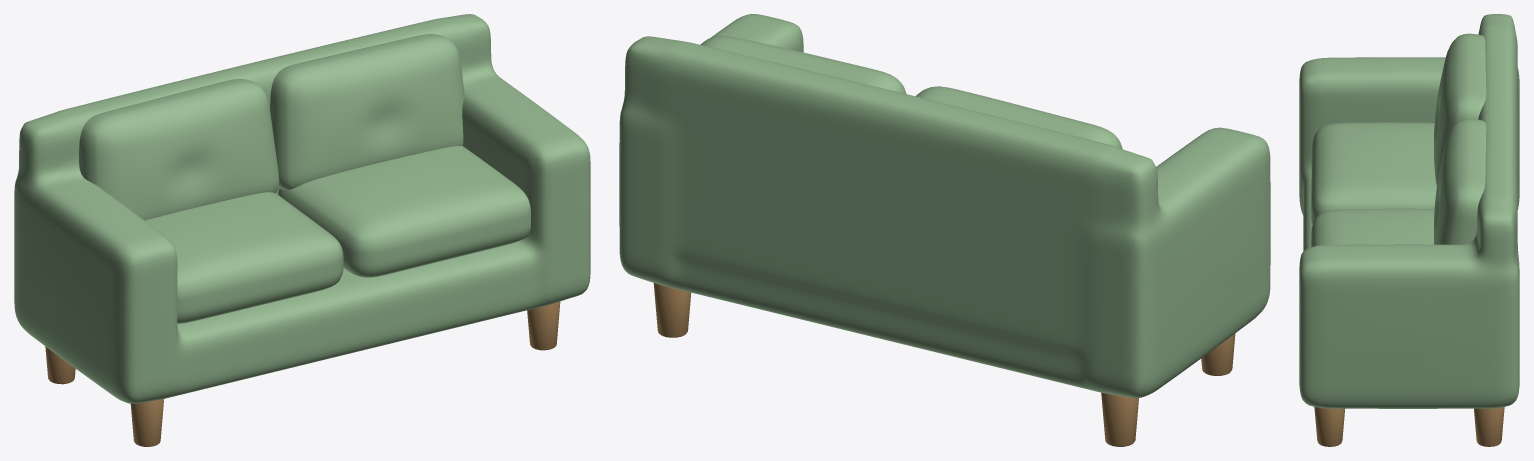
Rendered from quiet-home-sofa.glb.
3 views of the same model, side by side, from view 1: azimuth 30°, elevation 25°; view 2: azimuth 150°, elevation 25°; view 3: azimuth 270°, elevation 25° (orthographic). The views are drawn at different scales.
Parts seen in each view (by area): view 1: Continuous upholstered frame, Back cushion 2, Seat cushion 2, Back cushion 1, Seat cushion 1, Ash foot -1.04 -0.39, Ash foot +1.04 -0.39, Ash foot -1.04 +0.39; view 2: Continuous upholstered frame, Back cushion 1, Back cushion 2, Ash foot -1.04 +0.39, Ash foot +1.04 +0.39, Ash foot -1.04 -0.39; view 3: Continuous upholstered frame, Seat cushion 1, Back cushion 2, Seat cushion 2, Back cushion 1, Ash foot +1.04 -0.39, Ash foot +1.04 +0.39.
Part boxes in pixels (bbox=[...]): Continuous upholstered frame: bbox=[14, 14, 590, 403]; Back cushion 2: bbox=[270, 34, 464, 190]; Seat cushion 2: bbox=[278, 146, 530, 277]; Back cushion 1: bbox=[79, 79, 279, 220]; Seat cushion 1: bbox=[145, 192, 343, 323]; Ash foot -1.04 -0.39: bbox=[130, 399, 163, 446]; Ash foot +1.04 -0.39: bbox=[527, 301, 560, 350]; Ash foot -1.04 +0.39: bbox=[45, 346, 75, 384]; Continuous upholstered frame: bbox=[619, 14, 1270, 397]; Back cushion 1: bbox=[916, 86, 1122, 149]; Back cushion 2: bbox=[700, 35, 906, 93]; Ash foot -1.04 +0.39: bbox=[1101, 392, 1138, 446]; Ash foot +1.04 +0.39: bbox=[653, 283, 691, 337]; Ash foot -1.04 -0.39: bbox=[1201, 333, 1235, 375]; Continuous upholstered frame: bbox=[1299, 14, 1519, 408]; Seat cushion 1: bbox=[1311, 122, 1436, 224]; Back cushion 2: bbox=[1434, 118, 1486, 244]; Seat cushion 2: bbox=[1311, 208, 1434, 246]; Back cushion 1: bbox=[1434, 33, 1486, 186]; Ash foot +1.04 -0.39: bbox=[1314, 407, 1344, 446]; Ash foot +1.04 +0.39: bbox=[1474, 407, 1504, 446].
Size of the model in its own units: 2.49 by 1.32 by 1.08.
